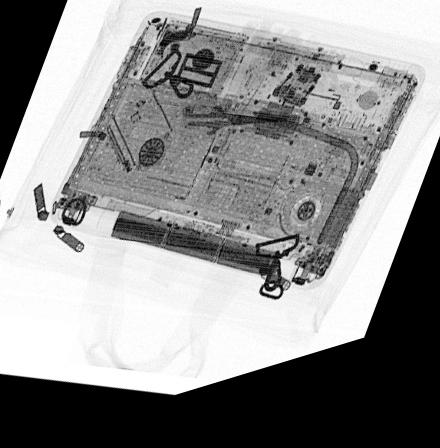Scissors: (180, 116, 295, 155)
